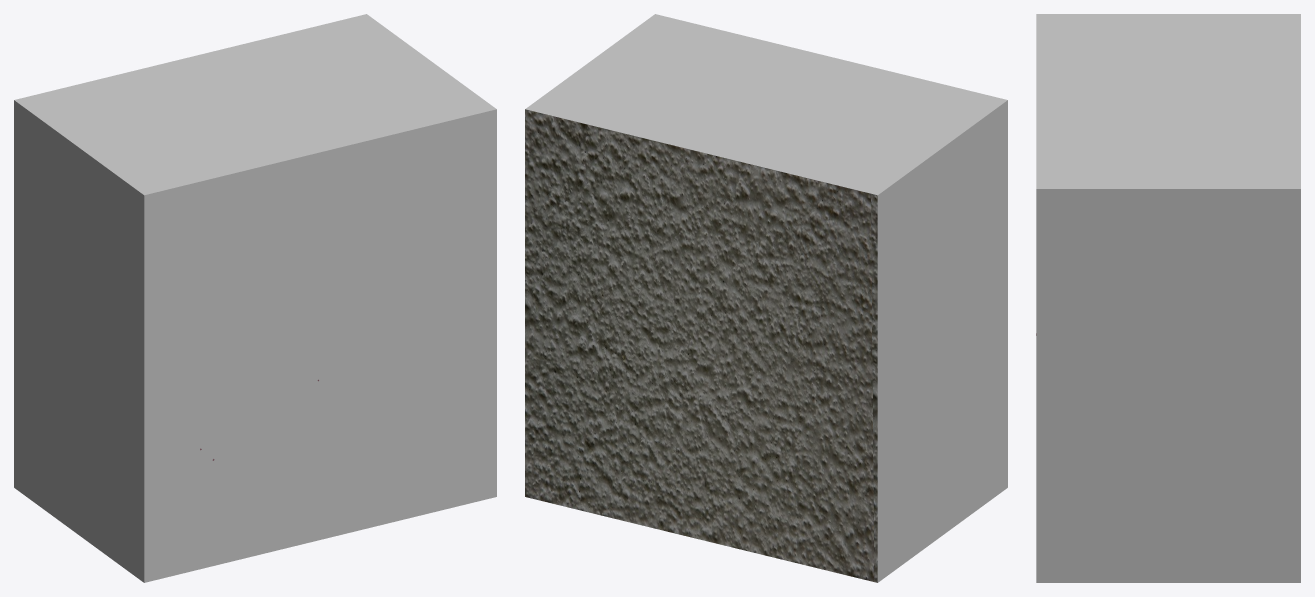
The model's file is caca7.dae.
3 renders of one model, left to right at view 1: azimuth 30°, elevation 25°; view 2: azimuth 150°, elevation 25°; view 3: azimuth 270°, elevation 25°, orthographic.
Parts seen in each view (by area): view 1: Room_001; view 2: Room_001; view 3: Room_001.
Boxes of the visible parts, x1=… form: Room_001: x1=14, y1=14, x2=496, y2=582; Room_001: x1=525, y1=14, x2=1007, y2=582; Room_001: x1=1036, y1=14, x2=1300, y2=582.
Size of the model in its own units: 11.52 by 7.37 by 12.1.
